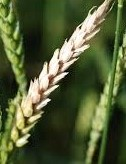Wheat scab: (13, 5, 110, 148)
